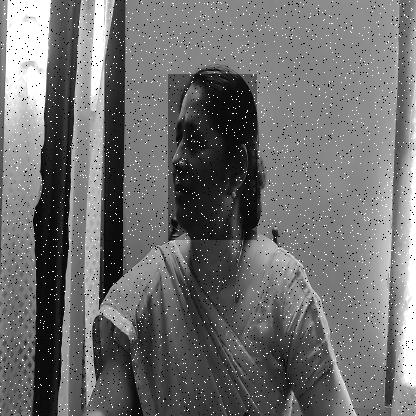Distracted: (168, 74, 257, 240)
